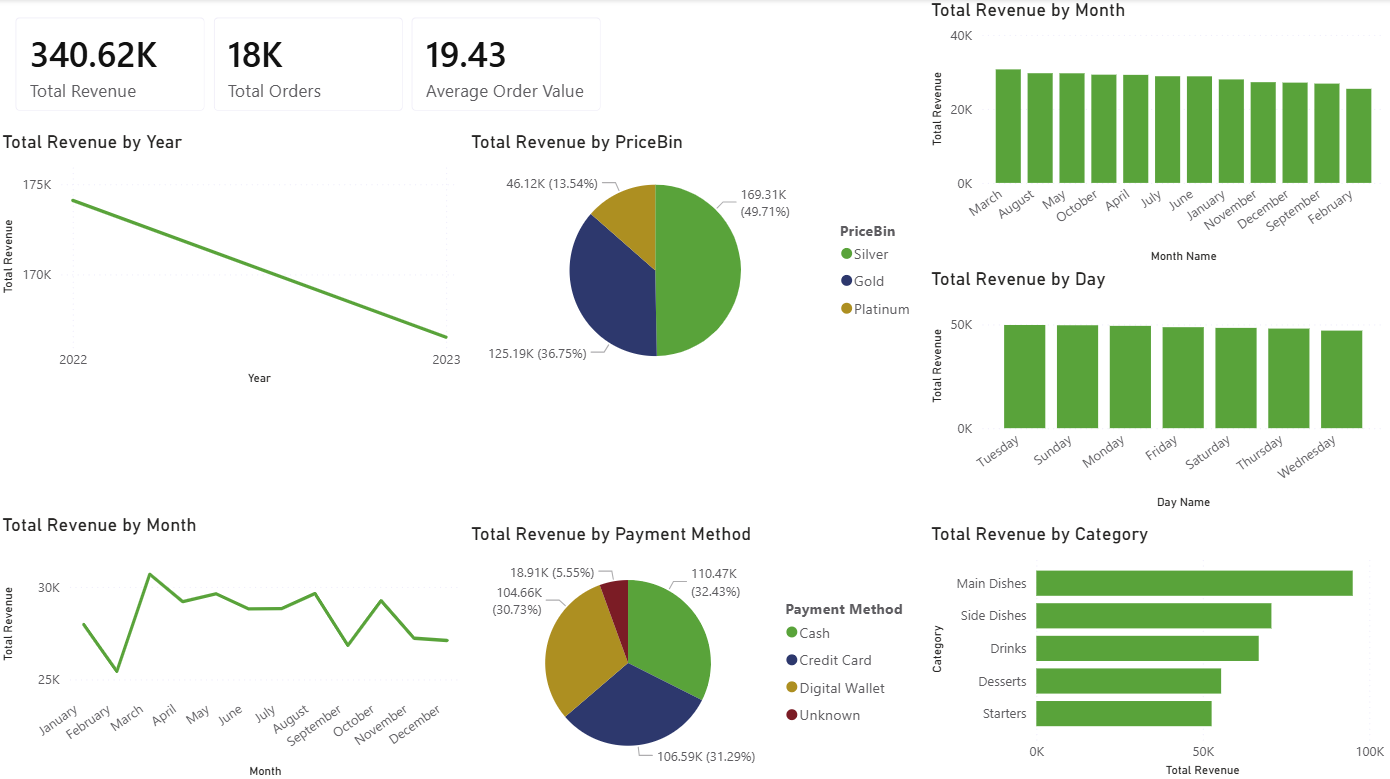

What the dashboard file says about the page in this screenshot:
{"tool":"powerbi","page":{"name":"Page 1","canvas":[1280,720],"ordinal":0},"visuals":[{"type":"cardVisual","fields":{"Data":["FactSales.Total Revenue","FactSales.Total Orders","FactSales.Average Order Value"]},"box":[0,0,575,120.8],"z":0},{"type":"lineChart","fields":{"Category":["DimDate.Date.Variation.Date Hierarchy.Year","DimDate.Date.Variation.Date Hierarchy.Quarter","DimDate.Date.Variation.Date Hierarchy.Month","DimDate.Date.Variation.Date Hierarchy.Day"],"Y":["FactSales.Total Revenue"]},"box":[0,120.8,430.9,238.8],"z":1},{"type":"lineChart","fields":{"Category":["DimDate.Date.Variation.Date Hierarchy.Month","DimDate.Date.Variation.Date Hierarchy.Day"],"Y":["FactSales.Total Revenue"]},"box":[0,473.4,430.9,247],"z":2},{"type":"clusteredBarChart","fields":{"Y":["FactSales.Total Revenue"],"Category":["FactSales.Category"]},"box":[853.5,481.6,426.8,238.8],"z":3},{"type":"columnChart","title":"Total Revenue by Month","fields":{"Y":["FactSales.Total Revenue"],"Category":["FactSales.Month Name"]},"box":[853.5,0,426.8,247],"z":4},{"type":"clusteredColumnChart","title":"Total Revenue by Day","fields":{"Y":["FactSales.Total Revenue"],"Category":["FactSales.Day Name"]},"box":[853.5,247,426.8,226.4],"z":5},{"type":"pieChart","fields":{"Category":["FactSales.PriceBin"],"Y":["FactSales.Total Revenue"]},"box":[430.9,120.8,422.6,238.8],"z":6},{"type":"pieChart","fields":{"Category":["DimOrder.Payment Method"],"Y":["FactSales.Total Revenue"]},"box":[430.9,481.6,422.6,238.8],"z":7}]}

Visuals, with their boxes in screenshot pixels (x1, y1, x2, y2), scaled from the page's 1280x720 canvas onto the 1390x779 screenshot:
cardVisual - FactSales.Total Revenue x FactSales.Total Orders: 0 0 624 131
lineChart - DimDate.Date.Variation.Date Hierarchy.Year x DimDate.Date.Variation.Date Hierarchy.Quarter: 0 131 468 389
lineChart - DimDate.Date.Variation.Date Hierarchy.Month x DimDate.Date.Variation.Date Hierarchy.Day: 0 512 468 778
clusteredBarChart - FactSales.Total Revenue x FactSales.Category: 927 521 1389 778
"Total Revenue by Month" columnChart: 927 0 1389 267
"Total Revenue by Day" clusteredColumnChart: 927 267 1389 512
pieChart - FactSales.PriceBin x FactSales.Total Revenue: 468 131 927 389
pieChart - DimOrder.Payment Method x FactSales.Total Revenue: 468 521 927 778
